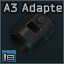Lantac BMD Blast Mitigation Device A3 direct thread adapter: (0, 0, 64, 64)
